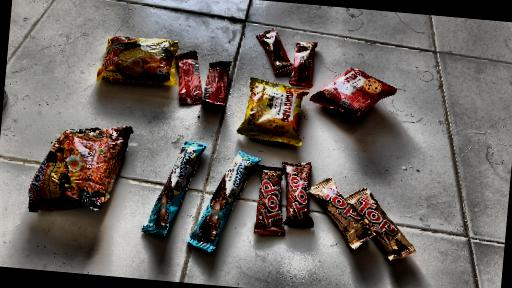chocho: (242, 17, 322, 98), (173, 49, 238, 118)
dilan: (150, 124, 252, 279)
indomie: (92, 24, 187, 109)
mie sedap: (32, 104, 137, 237)
momotaro: (237, 73, 326, 140), (307, 67, 409, 121)
top: (243, 153, 424, 280)
